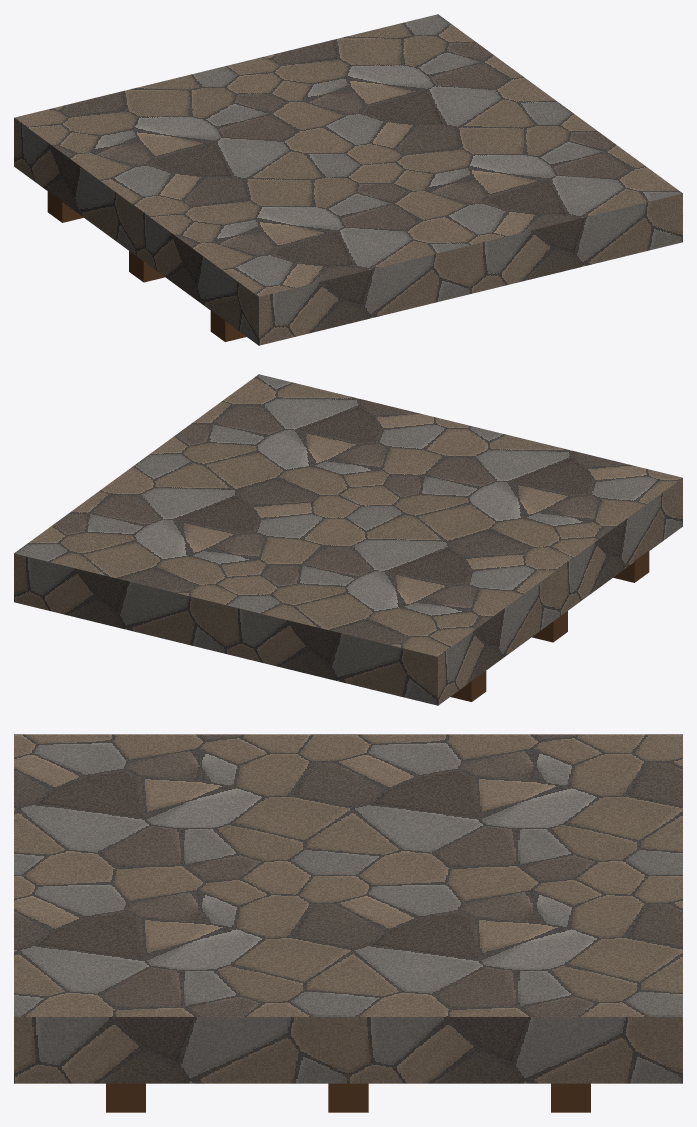
Rendered from mine_ceiling_timbered.glb.
3 views of the same model, one above another, from view 1: azimuth 30°, elevation 25°; view 2: azimuth 150°, elevation 25°; view 3: azimuth 270°, elevation 25° (orthographic). The views are drawn at different scales.
Parts seen in each view (by area): view 1: mine_ceiling_timbered; view 2: mine_ceiling_timbered; view 3: mine_ceiling_timbered.
Part boxes in pixels (x1=…): mine_ceiling_timbered: x1=14, y1=14, x2=682, y2=345; mine_ceiling_timbered: x1=14, y1=374, x2=682, y2=705; mine_ceiling_timbered: x1=14, y1=734, x2=682, y2=1112.
Bounding box in the file's own units: 4 × 0.63 × 4.
3 materials, 1 textured.
